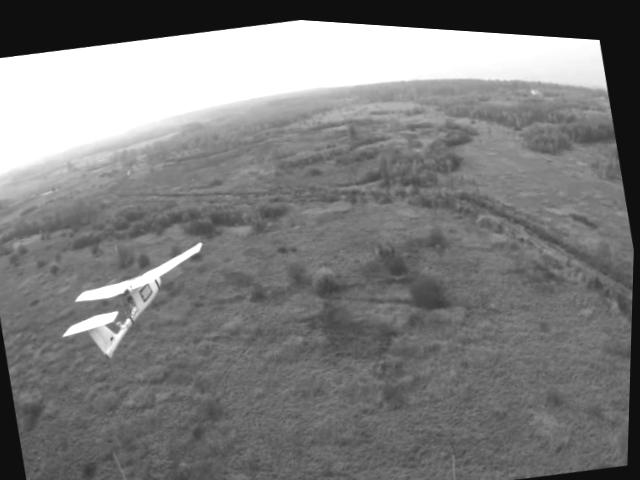hedef: (46, 221, 231, 384)
